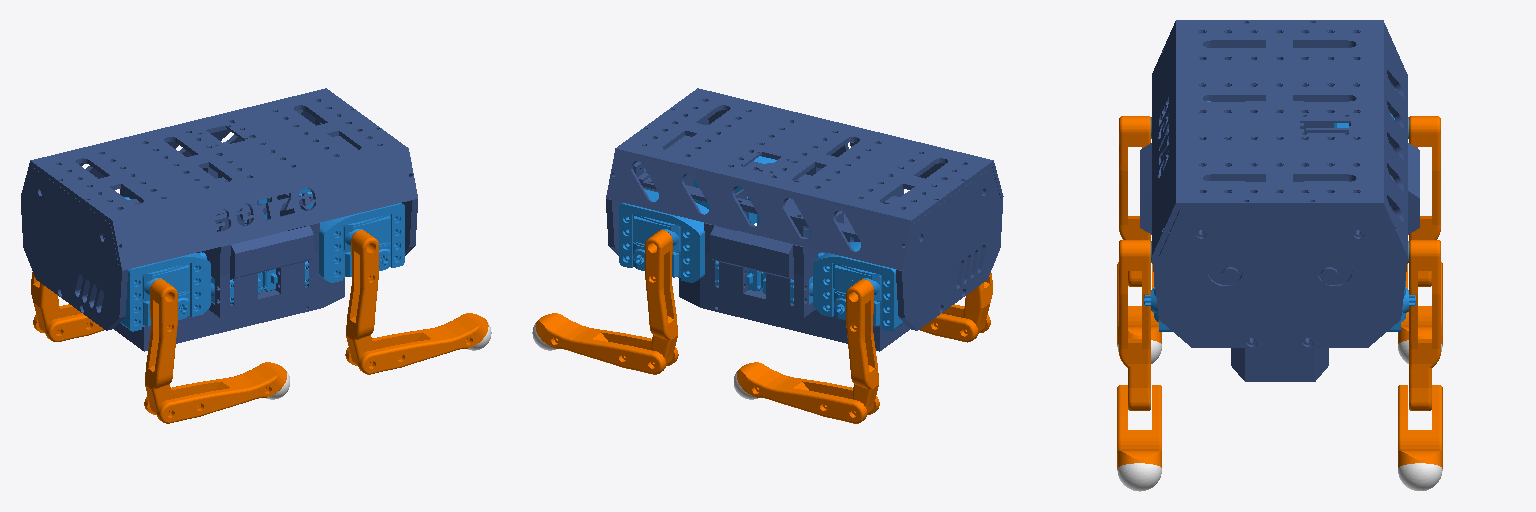
--- What the picture shows (computed from the rendered views, not written in the file) ---
The picture shows the robot from 3 angles, left to right: view 1: azimuth 30°, elevation 25°; view 2: azimuth 150°, elevation 25°; view 3: azimuth 270°, elevation 25°; orthographic projection.
Robot: BOTZO_URDF — 42 links, 41 joints (16 continuous, 25 fixed); root link base; default pose: every joint at zero.
Links seen in each view (by area): view 1: top, rear, RH_SHANK, RF_SHANK, plaque_left, battery_case, RH_THIGH, base, RF_THIGH, FL_hip_holder, BL_hip_holder, LH_SHANK (+6 smaller); view 2: top, rear, plaque_right, LH_SHANK, LF_SHANK, battery_case, base, LF_THIGH, LH_THIGH, FR_hip_holder, BR_hip_holder, internal_infra (+7 smaller); view 3: top, face, LF_THIGH, RF_THIGH, battery_case, LF_SHANK, RF_SHANK, RH_THIGH, LH_THIGH, plaque_right, plaque_left, RF_FOOT (+3 smaller).
Boxes of the visible links, x1,y1,x2,y2 form: top: [21, 88, 417, 270]; rear: [21, 167, 127, 330]; RH_SHANK: [144, 362, 286, 423]; RF_SHANK: [345, 313, 488, 374]; plaque_left: [197, 193, 319, 281]; battery_case: [114, 276, 344, 351]; RH_THIGH: [145, 279, 177, 414]; base: [209, 218, 318, 317]; RF_THIGH: [346, 230, 378, 365]; FL_hip_holder: [319, 203, 404, 282]; BL_hip_holder: [120, 253, 210, 331]; LH_SHANK: [33, 304, 103, 341]; top: [606, 88, 1003, 270]; rear: [896, 167, 1002, 330]; plaque_right: [704, 189, 843, 281]; LH_SHANK: [737, 362, 879, 423]; LF_SHANK: [535, 313, 678, 374]; battery_case: [679, 276, 909, 351]; base: [705, 223, 860, 317]; LF_THIGH: [645, 230, 677, 365]; LH_THIGH: [846, 279, 878, 414]; FR_hip_holder: [619, 189, 708, 282]; BR_hip_holder: [813, 242, 903, 331]; internal_infra: [633, 120, 899, 238]; top: [1152, 20, 1407, 258]; face: [1152, 209, 1407, 347]; LF_THIGH: [1409, 240, 1440, 410]; RF_THIGH: [1119, 240, 1150, 410]; battery_case: [1231, 348, 1328, 381]; LF_SHANK: [1398, 385, 1442, 468]; RF_SHANK: [1117, 385, 1161, 468]; RH_THIGH: [1119, 116, 1150, 286]; LH_THIGH: [1409, 116, 1440, 286]; plaque_right: [1306, 128, 1419, 234]; plaque_left: [1140, 143, 1244, 234]; RF_FOOT: [1117, 463, 1161, 491].
Bounding box of the posed robot: 0.2947 × 0.1816 × 0.1573 m (x, y, z).
42 mesh visuals loaded from 42 distinct referenced files (42 binary STL).

The robot description file, URDF, robot "BOTZO_URDF":
<?xml version="1.0" ?>
<!-- =================================================================================== -->
<!-- |    This document was autogenerated by xacro from BOTZO_URDF.xacro               | -->
<!-- |    EDITING THIS FILE BY HAND IS NOT RECOMMENDED                                 | -->
<!-- =================================================================================== -->
<robot name="BOTZO_URDF">
  <!-- Body Material -->
  <material name="body_material">
    <color rgba="0.3 0.4 0.6 1.0"/>
    <!-- steel blue -->
  </material>
  <!-- Shoulder Material -->
  <material name="shoulder_material">
    <color rgba="0.2 0.6 0.9 1.0"/>
    <!-- light blue -->
  </material>
  <!-- Legs Material -->
  <material name="legs_material">
    <color rgba="1.0 0.5 0.0 1.0"/>
    <!-- orange -->
  </material>
  <!-- Foot Material -->
  <material name="foot_material">
    <color rgba="1.0 1.0 1.0 1.000"/>
    <!-- white -->
  </material>
  <transmission name="LH_HAA_tran">
    <type>transmission_interface/SimpleTransmission</type>
    <joint name="LH_HAA">
      <hardwareInterface>hardware_interface/EffortJointInterface</hardwareInterface>
    </joint>
    <actuator name="LH_HAA_actr">
      <hardwareInterface>hardware_interface/EffortJointInterface</hardwareInterface>
      <mechanicalReduction>1</mechanicalReduction>
    </actuator>
  </transmission>
  <transmission name="RH_HAA_tran">
    <type>transmission_interface/SimpleTransmission</type>
    <joint name="RH_HAA">
      <hardwareInterface>hardware_interface/EffortJointInterface</hardwareInterface>
    </joint>
    <actuator name="RH_HAA_actr">
      <hardwareInterface>hardware_interface/EffortJointInterface</hardwareInterface>
      <mechanicalReduction>1</mechanicalReduction>
    </actuator>
  </transmission>
  <transmission name="RF_HAA_tran">
    <type>transmission_interface/SimpleTransmission</type>
    <joint name="RF_HAA">
      <hardwareInterface>hardware_interface/EffortJointInterface</hardwareInterface>
    </joint>
    <actuator name="RF_HAA_actr">
      <hardwareInterface>hardware_interface/EffortJointInterface</hardwareInterface>
      <mechanicalReduction>1</mechanicalReduction>
    </actuator>
  </transmission>
  <transmission name="LF_HAA_tran">
    <type>transmission_interface/SimpleTransmission</type>
    <joint name="LF_HAA">
      <hardwareInterface>hardware_interface/EffortJointInterface</hardwareInterface>
    </joint>
    <actuator name="LF_HAA_actr">
      <hardwareInterface>hardware_interface/EffortJointInterface</hardwareInterface>
      <mechanicalReduction>1</mechanicalReduction>
    </actuator>
  </transmission>
  <transmission name="LF_HFE_tran">
    <type>transmission_interface/SimpleTransmission</type>
    <joint name="LF_HFE">
      <hardwareInterface>hardware_interface/EffortJointInterface</hardwareInterface>
    </joint>
    <actuator name="LF_HFE_actr">
      <hardwareInterface>hardware_interface/EffortJointInterface</hardwareInterface>
      <mechanicalReduction>1</mechanicalReduction>
    </actuator>
  </transmission>
  <transmission name="RF_HFE_tran">
    <type>transmission_interface/SimpleTransmission</type>
    <joint name="RF_HFE">
      <hardwareInterface>hardware_interface/EffortJointInterface</hardwareInterface>
    </joint>
    <actuator name="RF_HFE_actr">
      <hardwareInterface>hardware_interface/EffortJointInterface</hardwareInterface>
      <mechanicalReduction>1</mechanicalReduction>
    </actuator>
  </transmission>
  <transmission name="RH_HFE_tran">
    <type>transmission_interface/SimpleTransmission</type>
    <joint name="RH_HFE">
      <hardwareInterface>hardware_interface/EffortJointInterface</hardwareInterface>
    </joint>
    <actuator name="RH_HFE_actr">
      <hardwareInterface>hardware_interface/EffortJointInterface</hardwareInterface>
      <mechanicalReduction>1</mechanicalReduction>
    </actuator>
  </transmission>
  <transmission name="LH_HFE_tran">
    <type>transmission_interface/SimpleTransmission</type>
    <joint name="LH_HFE">
      <hardwareInterface>hardware_interface/EffortJointInterface</hardwareInterface>
    </joint>
    <actuator name="LH_HFE_actr">
      <hardwareInterface>hardware_interface/EffortJointInterface</hardwareInterface>
      <mechanicalReduction>1</mechanicalReduction>
    </actuator>
  </transmission>
  <transmission name="LF_KFE_tran">
    <type>transmission_interface/SimpleTransmission</type>
    <joint name="LF_KFE">
      <hardwareInterface>hardware_interface/EffortJointInterface</hardwareInterface>
    </joint>
    <actuator name="LF_KFE_actr">
      <hardwareInterface>hardware_interface/EffortJointInterface</hardwareInterface>
      <mechanicalReduction>1</mechanicalReduction>
    </actuator>
  </transmission>
  <transmission name="RF_KFE_tran">
    <type>transmission_interface/SimpleTransmission</type>
    <joint name="RF_KFE">
      <hardwareInterface>hardware_interface/EffortJointInterface</hardwareInterface>
    </joint>
    <actuator name="RF_KFE_actr">
      <hardwareInterface>hardware_interface/EffortJointInterface</hardwareInterface>
      <mechanicalReduction>1</mechanicalReduction>
    </actuator>
  </transmission>
  <transmission name="LH_KFE_tran">
    <type>transmission_interface/SimpleTransmission</type>
    <joint name="LH_KFE">
      <hardwareInterface>hardware_interface/EffortJointInterface</hardwareInterface>
    </joint>
    <actuator name="LH_KFE_actr">
      <hardwareInterface>hardware_interface/EffortJointInterface</hardwareInterface>
      <mechanicalReduction>1</mechanicalReduction>
    </actuator>
  </transmission>
  <transmission name="RH_KFE_tran">
    <type>transmission_interface/SimpleTransmission</type>
    <joint name="RH_KFE">
      <hardwareInterface>hardware_interface/EffortJointInterface</hardwareInterface>
    </joint>
    <actuator name="RH_KFE_actr">
      <hardwareInterface>hardware_interface/EffortJointInterface</hardwareInterface>
      <mechanicalReduction>1</mechanicalReduction>
    </actuator>
  </transmission>
  <transmission name="RH_shank_fixed_RH_FOOT_tran">
    <type>transmission_interface/SimpleTransmission</type>
    <joint name="RH_shank_fixed_RH_FOOT">
      <hardwareInterface>hardware_interface/EffortJointInterface</hardwareInterface>
    </joint>
    <actuator name="RH_shank_fixed_RH_FOOT_actr">
      <hardwareInterface>hardware_interface/EffortJointInterface</hardwareInterface>
      <mechanicalReduction>1</mechanicalReduction>
    </actuator>
  </transmission>
  <transmission name="LH_shank_fixed_LH_FOOT_tran">
    <type>transmission_interface/SimpleTransmission</type>
    <joint name="LH_shank_fixed_LH_FOOT">
      <hardwareInterface>hardware_interface/EffortJointInterface</hardwareInterface>
    </joint>
    <actuator name="LH_shank_fixed_LH_FOOT_actr">
      <hardwareInterface>hardware_interface/EffortJointInterface</hardwareInterface>
      <mechanicalReduction>1</mechanicalReduction>
    </actuator>
  </transmission>
  <transmission name="LF_shank_fixed_LF_FOOT_tran">
    <type>transmission_interface/SimpleTransmission</type>
    <joint name="LF_shank_fixed_LF_FOOT">
      <hardwareInterface>hardware_interface/EffortJointInterface</hardwareInterface>
    </joint>
    <actuator name="LF_shank_fixed_LF_FOOT_actr">
      <hardwareInterface>hardware_interface/EffortJointInterface</hardwareInterface>
      <mechanicalReduction>1</mechanicalReduction>
    </actuator>
  </transmission>
  <transmission name="RF_shank_fixed_RF_FOOT_tran">
    <type>transmission_interface/SimpleTransmission</type>
    <joint name="RF_shank_fixed_RF_FOOT">
      <hardwareInterface>hardware_interface/EffortJointInterface</hardwareInterface>
    </joint>
    <actuator name="RF_shank_fixed_RF_FOOT_actr">
      <hardwareInterface>hardware_interface/EffortJointInterface</hardwareInterface>
      <mechanicalReduction>1</mechanicalReduction>
    </actuator>
  </transmission>
  <gazebo>
    <plugin filename="libgazebo_ros_control.so" name="control"/>
  </gazebo>
  <gazebo reference="base">
    <material>Gazebo/Silver</material>
    <mu1>0.2</mu1>
    <mu2>0.2</mu2>
    <selfCollide>true</selfCollide>
    <gravity>true</gravity>
  </gazebo>
  <gazebo reference="battery_case_1">
    <material>Gazebo/Silver</material>
    <mu1>0.2</mu1>
    <mu2>0.2</mu2>
    <selfCollide>true</selfCollide>
  </gazebo>
  <gazebo reference="battery_lid_1">
    <material>Gazebo/Silver</material>
    <mu1>0.2</mu1>
    <mu2>0.2</mu2>
    <selfCollide>true</selfCollide>
  </gazebo>
  <gazebo reference="FL_hip_servo_2">
    <material>Gazebo/Silver</material>
    <mu1>0.2</mu1>
    <mu2>0.2</mu2>
    <selfCollide>true</selfCollide>
  </gazebo>
  <gazebo reference="BL_hip_servo_2">
    <material>Gazebo/Silver</material>
    <mu1>0.2</mu1>
    <mu2>0.2</mu2>
    <selfCollide>true</selfCollide>
  </gazebo>
  <gazebo reference="BR_hip_servo_2">
    <material>Gazebo/Silver</material>
    <mu1>0.2</mu1>
    <mu2>0.2</mu2>
    <selfCollide>true</selfCollide>
  </gazebo>
  <gazebo reference="FR_hip_servo_2">
    <material>Gazebo/Silver</material>
    <mu1>0.2</mu1>
    <mu2>0.2</mu2>
    <selfCollide>true</selfCollide>
  </gazebo>
  <gazebo reference="LH_HIP_2">
    <material>Gazebo/Silver</material>
    <mu1>0.2</mu1>
    <mu2>0.2</mu2>
    <selfCollide>true</selfCollide>
  </gazebo>
  <gazebo reference="RH_HIP_2">
    <material>Gazebo/Silver</material>
    <mu1>0.2</mu1>
    <mu2>0.2</mu2>
    <selfCollide>true</selfCollide>
  </gazebo>
  <gazebo reference="RF_HIP_2">
    <material>Gazebo/Silver</material>
    <mu1>0.2</mu1>
    <mu2>0.2</mu2>
    <selfCollide>true</selfCollide>
  </gazebo>
  <gazebo reference="LF_HIP_2">
    <material>Gazebo/Silver</material>
    <mu1>0.2</mu1>
    <mu2>0.2</mu2>
    <selfCollide>true</selfCollide>
  </gazebo>
  <gazebo reference="FR_hip_holder_2">
    <material>Gazebo/Silver</material>
    <mu1>0.2</mu1>
    <mu2>0.2</mu2>
    <selfCollide>true</selfCollide>
  </gazebo>
  <gazebo reference="FL_hip_holder_2">
    <material>Gazebo/Silver</material>
    <mu1>0.2</mu1>
    <mu2>0.2</mu2>
    <selfCollide>true</selfCollide>
  </gazebo>
  <gazebo reference="BR_hip_holder_2">
    <material>Gazebo/Silver</material>
    <mu1>0.2</mu1>
    <mu2>0.2</mu2>
    <selfCollide>true</selfCollide>
  </gazebo>
  <gazebo reference="BL_hip_holder_2">
    <material>Gazebo/Silver</material>
    <mu1>0.2</mu1>
    <mu2>0.2</mu2>
    <selfCollide>true</selfCollide>
  </gazebo>
  <gazebo reference="BL_femur_servo_2">
    <material>Gazebo/Silver</material>
    <mu1>0.2</mu1>
    <mu2>0.2</mu2>
    <selfCollide>true</selfCollide>
  </gazebo>
  <gazebo reference="BL_tibia_servo_2">
    <material>Gazebo/Silver</material>
    <mu1>0.2</mu1>
    <mu2>0.2</mu2>
    <selfCollide>true</selfCollide>
  </gazebo>
  <gazebo reference="BR_femur_servo_2">
    <material>Gazebo/Silver</material>
    <mu1>0.2</mu1>
    <mu2>0.2</mu2>
    <selfCollide>true</selfCollide>
  </gazebo>
  <gazebo reference="BR_tibia_servo_2">
    <material>Gazebo/Silver</material>
    <mu1>0.2</mu1>
    <mu2>0.2</mu2>
    <selfCollide>true</selfCollide>
  </gazebo>
  <gazebo reference="FL_femur_servo_2">
    <material>Gazebo/Silver</material>
    <mu1>0.2</mu1>
    <mu2>0.2</mu2>
    <selfCollide>true</selfCollide>
  </gazebo>
  <gazebo reference="FL_tibia_servo_2">
    <material>Gazebo/Silver</material>
    <mu1>0.2</mu1>
    <mu2>0.2</mu2>
    <selfCollide>true</selfCollide>
  </gazebo>
  <gazebo reference="FR_femur_servo_2">
    <material>Gazebo/Silver</material>
    <mu1>0.2</mu1>
    <mu2>0.2</mu2>
    <selfCollide>true</selfCollide>
  </gazebo>
  <gazebo reference="FR_tibia_servo_2">
    <material>Gazebo/Silver</material>
    <mu1>0.2</mu1>
    <mu2>0.2</mu2>
    <selfCollide>true</selfCollide>
  </gazebo>
  <gazebo reference="imu_link_1">
    <material>Gazebo/Silver</material>
    <mu1>0.2</mu1>
    <mu2>0.2</mu2>
    <selfCollide>true</selfCollide>
  </gazebo>
  <gazebo reference="LF_THIGH_2">
    <material>Gazebo/Silver</material>
    <mu1>0.2</mu1>
    <mu2>0.2</mu2>
    <selfCollide>true</selfCollide>
  </gazebo>
  <gazebo reference="RF_THIGH_2">
    <material>Gazebo/Silver</material>
    <mu1>0.2</mu1>
    <mu2>0.2</mu2>
    <selfCollide>true</selfCollide>
  </gazebo>
  <gazebo reference="RH_THIGH_2">
    <material>Gazebo/Silver</material>
    <mu1>0.2</mu1>
    <mu2>0.2</mu2>
    <selfCollide>true</selfCollide>
  </gazebo>
  <gazebo reference="LH_THIGH_2">
    <material>Gazebo/Silver</material>
    <mu1>0.2</mu1>
    <mu2>0.2</mu2>
    <selfCollide>true</selfCollide>
  </gazebo>
  <gazebo reference="LF_SHANK_2">
    <material>Gazebo/Silver</material>
    <mu1>0.2</mu1>
    <mu2>0.2</mu2>
    <selfCollide>true</selfCollide>
  </gazebo>
  <gazebo reference="RF_SHANK_2">
    <material>Gazebo/Silver</material>
    <mu1>0.2</mu1>
    <mu2>0.2</mu2>
    <selfCollide>true</selfCollide>
  </gazebo>
  <gazebo reference="LH_SHANK_2">
    <material>Gazebo/Silver</material>
    <mu1>0.2</mu1>
    <mu2>0.2</mu2>
    <selfCollide>true</selfCollide>
  </gazebo>
  <gazebo reference="RH_SHANK_2">
    <material>Gazebo/Silver</material>
    <mu1>0.2</mu1>
    <mu2>0.2</mu2>
    <selfCollide>true</selfCollide>
  </gazebo>
  <gazebo reference="RH_FOOT_2">
    <material>Gazebo/Silver</material>
    <mu1>0.2</mu1>
    <mu2>0.2</mu2>
    <selfCollide>true</selfCollide>
  </gazebo>
  <gazebo reference="LH_FOOT_2">
    <material>Gazebo/Silver</material>
    <mu1>0.2</mu1>
    <mu2>0.2</mu2>
    <selfCollide>true</selfCollide>
  </gazebo>
  <gazebo reference="LF_FOOT_2">
    <material>Gazebo/Silver</material>
    <mu1>0.2</mu1>
    <mu2>0.2</mu2>
    <selfCollide>true</selfCollide>
  </gazebo>
  <gazebo reference="RF_FOOT_2">
    <material>Gazebo/Silver</material>
    <mu1>0.2</mu1>
    <mu2>0.2</mu2>
    <selfCollide>true</selfCollide>
  </gazebo>
  <gazebo reference="plaque_left_2">
    <material>Gazebo/Silver</material>
    <mu1>0.2</mu1>
    <mu2>0.2</mu2>
    <selfCollide>true</selfCollide>
  </gazebo>
  <gazebo reference="plaque_right_2">
    <material>Gazebo/Silver</material>
    <mu1>0.2</mu1>
    <mu2>0.2</mu2>
    <selfCollide>true</selfCollide>
  </gazebo>
  <gazebo reference="rear_2">
    <material>Gazebo/Silver</material>
    <mu1>0.2</mu1>
    <mu2>0.2</mu2>
    <selfCollide>true</selfCollide>
  </gazebo>
  <gazebo reference="face_2">
    <material>Gazebo/Silver</material>
    <mu1>0.2</mu1>
    <mu2>0.2</mu2>
    <selfCollide>true</selfCollide>
  </gazebo>
  <gazebo reference="internal_infra_2">
    <material>Gazebo/Silver</material>
    <mu1>0.2</mu1>
    <mu2>0.2</mu2>
    <selfCollide>true</selfCollide>
  </gazebo>
  <gazebo reference="top_2">
    <material>Gazebo/Silver</material>
    <mu1>0.2</mu1>
    <mu2>0.2</mu2>
    <selfCollide>true</selfCollide>
  </gazebo>
  <link name="base">
    <inertial>
      <origin rpy="0 0 0" xyz="0.009375536855168636 2.60962330403209e-06 0.04112976914849421"/>
      <mass value="1.2167441545851616"/>
      <inertia ixx="0.001707" ixy="-0.0" ixz="1e-06" iyy="0.003036" iyz="0.0" izz="0.004645"/>
    </inertial>
    <visual>
      <origin rpy="0 0 0" xyz="0 0 0"/>
      <geometry>
        <mesh filename="../meshes/base.stl" scale="0.001 0.001 0.001"/>
      </geometry>
      <material name="body_material"/>
    </visual>
    <collision>
      <origin rpy="0 0 0" xyz="0 0 0"/>
      <geometry>
        <mesh filename="../meshes/base.stl" scale="0.001 0.001 0.001"/>
      </geometry>
    </collision>
  </link>
  <link name="battery_case">
    <inertial>
      <origin rpy="0 0 0" xyz="-0.04833257320080778 -0.021665747040542763 -0.013785580434187983"/>
      <mass value="0.5279583593554026"/>
      <inertia ixx="0.000303" ixy="-0.0" ixz="6.3e-05" iyy="0.001576" iyz="0.0" izz="0.001729"/>
    </inertial>
    <visual>
      <origin rpy="0 0 0" xyz="-0.060442 -0.021666 -0.035"/>
      <geometry>
        <mesh filename="../meshes/battery_case.stl" scale="0.001 0.001 0.001"/>
      </geometry>
      <material name="body_material"/>
    </visual>
    <collision>
      <origin rpy="0 0 0" xyz="-0.060442 -0.021666 -0.035"/>
      <geometry>
        <mesh filename="../meshes/battery_case.stl" scale="0.001 0.001 0.001"/>
      </geometry>
    </collision>
  </link>
  <link name="battery_lid">
    <inertial>
      <origin rpy="0 0 0" xyz="-0.06437847264634508 0.024434611722595645 -3.256760674206008e-08"/>
      <mass value="0.27701881208594975"/>
      <inertia ixx="6e-05" ixy="-0.0" ixz="0.0" iyy="0.000405" iyz="0.0" izz="0.000464"/>
    </inertial>
    <visual>
      <origin rpy="0 0 0" xyz="-0.063303 0.024621 -0.003002"/>
      <geometry>
        <mesh filename="../meshes/battery_lid.stl" scale="0.001 0.001 0.001"/>
      </geometry>
      <material name="body_material"/>
    </visual>
    <collision>
      <origin rpy="0 0 0" xyz="-0.063303 0.024621 -0.003002"/>
      <geometry>
        <mesh filename="../meshes/battery_lid.stl" scale="0.001 0.001 0.001"/>
      </geometry>
    </collision>
  </link>
  <link name="FL_hip_servo">
    <inertial>
      <origin rpy="0 0 0" xyz="-0.010978826420354432 0.024635560993822213 0.004999993099930565"/>
      <mass value="0.2617"/>
      <inertia ixx="4.6e-05" ixy="0.0" ixz="-0.0" iyy="4.4e-05" iyz="-0.0" izz="7.2e-05"/>
    </inertial>
    <visual>
      <origin rpy="0 0 0" xyz="-0.039798 0.0679 -0.0472"/>
      <geometry>
        <mesh filename="../meshes/FL_hip_servo.stl" scale="0.001 0.001 0.001"/>
      </geometry>
      <material name="shoulder_material"/>
    </visual>
    <collision>
      <origin rpy="0 0 0" xyz="-0.039798 0.0679 -0.0472"/>
      <geometry>
        <mesh filename="../meshes/FL_hip_servo.stl" scale="0.001 0.001 0.001"/>
      </geometry>
    </collision>
  </link>
  <link name="BL_hip_servo">
    <inertial>
      <origin rpy="0 0 0" xyz="0.010978566432420041 0.024635553472565068 0.004999993096986129"/>
      <mass value="0.2617"/>
      <inertia ixx="4.6e-05" ixy="-0.0" ixz="-0.0" iyy="4.4e-05" iyz="-0.0" izz="7.2e-05"/>
    </inertial>
    <visual>
      <origin rpy="0 0 0" xyz="0.024303 0.0679 -0.0472"/>
      <geometry>
        <mesh filename="../meshes/BL_hip_servo.stl" scale="0.001 0.001 0.001"/>
      </geometry>
      <material name="shoulder_material"/>
    </visual>
    <collision>
      <origin rpy="0 0 0" xyz="0.024303 0.0679 -0.0472"/>
      <geometry>
        <mesh filename="../meshes/BL_hip_servo.stl" scale="0.001 0.001 0.001"/>
      </geometry>
    </collision>
  </link>
  <link name="BR_hip_servo">
    <inertial>
      <origin rpy="0 0 0" xyz="0.010978566432483449 -0.02463554393590102 0.005000000088002207"/>
      <mass value="0.2617"/>
      <inertia ixx="4.6e-05" ixy="0.0" ixz="-0.0" iyy="4.4e-05" iyz="0.0" izz="7.2e-05"/>
    </inertial>
    <visual>
      <origin rpy="0 0 0" xyz="0.024303 -0.0679 -0.0472"/>
      <geometry>
        <mesh filename="../meshes/BR_hip_servo.stl" scale="0.001 0.001 0.001"/>
      </geometry>
      <material name="shoulder_material"/>
    </visual>
    <collision>
      <origin rpy="0 0 0" xyz="0.024303 -0.0679 -0.0472"/>
      <geometry>
        <mesh filename="../meshes/BR_hip_servo.stl" scale="0.001 0.001 0.001"/>
      </geometry>
    </collision>
  </link>
  <link name="FR_hip_servo">
    <inertial>
      <origin rpy="0 0 0" xyz="-0.010978819400829183 -0.02463554393111611 0.005000000090946616"/>
      <mass value="0.2617"/>
      <inertia ixx="4.6e-05" ixy="-0.0" ixz="-0.0" iyy="4.4e-05" iyz="0.0" izz="7.2e-05"/>
    </inertial>
    <visual>
      <origin rpy="0 0 0" xyz="-0.039798 -0.0679 -0.0472"/>
      <geometry>
        <mesh filename="../meshes/FR_hip_servo.stl" scale="0.001 0.001 0.001"/>
      </geometry>
      <material name="shoulder_material"/>
    </visual>
    <collision>
      <origin rpy="0 0 0" xyz="-0.039798 -0.0679 -0.0472"/>
      <geometry>
        <mesh filename="../meshes/FR_hip_servo.stl" scale="0.001 0.001 0.001"/>
      </geometry>
    </collision>
  </link>
  <link name="LH_HIP">
    <inertial>
      <origin rpy="0 0 0" xyz="-0.0033823271841275857 1.4796413910361794e-05 0.007872333848179133"/>
      <mass value="0.0095"/>
      <inertia ixx="1e-06" ixy="-0.0" ixz="0.0" iyy="1e-06" iyz="-0.0" izz="0.0"/>
    </inertial>
    <visual>
      <origin rpy="0 0 0" xyz="0.034903 -0.0531 -0.0522"/>
      <geometry>
        <mesh filename="../meshes/LH_HIP.stl" scale="0.001 0.001 0.001"/>
      </geometry>
      <material name="shoulder_material"/>
    </visual>
    <collision>
      <origin rpy="0 0 0" xyz="0.034903 -0.0531 -0.0522"/>
      <geometry>
        <mesh filename="../meshes/LH_HIP.stl" scale="0.001 0.001 0.001"/>
      </geometry>
    </collision>
  </link>
  <link name="RH_HIP">
    <inertial>
      <origin rpy="0 0 0" xyz="-0.0033823296605766523 -1.480449380279747e-05 0.00787237940155594"/>
      <mass value="0.0095"/>
      <inertia ixx="1e-06" ixy="0.0" ixz="0.0" iyy="1e-06" iyz="0.0" izz="0.0"/>
    </inertial>
    <visual>
      <origin rpy="0 0 0" xyz="0.034903 0.0531 -0.0522"/>
      <geometry>
        <mesh filename="../meshes/RH_HIP.stl" scale="0.001 0.001 0.001"/>
      </geometry>
      <material name="shoulder_material"/>
    </visual>
    <collision>
      <origin rpy="0 0 0" xyz="0.034903 0.0531 -0.0522"/>
      <geometry>
        <mesh filename="../meshes/RH_HIP.stl" scale="0.001 0.001 0.001"/>
      </geometry>
    </collision>
  </link>
  <link name="RF_HIP">
    <inertial>
      <origin rpy="0 0 0" xyz="0.003382077615074093 1.4787446472486199e-05 0.007872350264379872"/>
      <mass value="0.0095"/>
      <inertia ixx="1e-06" ixy="0.0" ixz="-0.0" iyy="1e-06" iyz="-0.0" izz="0.0"/>
    </inertial>
    <visual>
      <origin rpy="0 0 0" xyz="-0.050398 0.0531 -0.0522"/>
      <geometry>
        <mesh filename="../meshes/RF_HIP.stl" scale="0.001 0.001 0.001"/>
      </geometry>
      <material name="shoulder_material"/>
    </visual>
    <collision>
      <origin rpy="0 0 0" xyz="-0.050398 0.0531 -0.0522"/>
      <geometry>
        <mesh filename="../meshes/RF_HIP.stl" scale="0.001 0.001 0.001"/>
      </geometry>
    </collision>
  </link>
  <link name="LF_HIP">
    <inertial>
      <origin rpy="0 0 0" xyz="0.0033820809457219755 -1.45680062756115e-05 0.007871874279300785"/>
      <mass value="0.0095"/>
      <inertia ixx="1e-06" ixy="-0.0" ixz="-0.0" iyy="1e-06" iyz="0.0" izz="0.0"/>
    </inertial>
    <visual>
      <origin rpy="0 0 0" xyz="-0.050398 -0.0531 -0.0522"/>
      <geometry>
        <mesh filename="../meshes/LF_HIP.stl" scale="0.001 0.001 0.001"/>
      </geometry>
      <material name="shoulder_material"/>
    </visual>
    <collision>
      <origin rpy="0 0 0" xyz="-0.050398 -0.0531 -0.0522"/>
      <geometry>
        <mesh filename="../meshes/LF_HIP.stl" scale="0.001 0.001 0.001"/>
      </geometry>
    </collision>
  </link>
  <link name="FR_hip_holder">
    <inertial>
      <origin rpy="0 0 0" xyz="0.029560698455582325 -0.0006139250348962816 -0.005293910274418584"/>
      <mass value="0.2738"/>
      <inertia ixx="8.1e-05" ixy="1e-06" ixz="-1.2e-05" iyy="0.000224" iyz="-1e-06" izz="0.000184"/>
    </inertial>
    <visual>
      <origin rpy="0 0 0" xyz="-0.056398 -0.0531 -0.0722"/>
      <geometry>
        <mesh filename="../meshes/FR_hip_holder.stl" scale="0.001 0.001 0.001"/>
      </geometry>
      <material name="shoulder_material"/>
    </visual>
    <collision>
      <origin rpy="0 0 0" xyz="-0.056398 -0.0531 -0.0722"/>
      <geometry>
        <mesh filename="../meshes/FR_hip_holder.stl" scale="0.001 0.001 0.001"/>
      </geometry>
    </collision>
  </link>
  <link name="FL_hip_holder">
    <inertial>
      <origin rpy="0 0 0" xyz="0.029560702894754244 0.0006139344660216831 -0.005293914635593616"/>
      <mass value="0.2738"/>
      <inertia ixx="8.1e-05" ixy="-1e-06" ixz="-1.2e-05" iyy="0.000224" iyz="1e-06" izz="0.000184"/>
    </inertial>
    <visual>
      <origin rpy="0 0 0" xyz="-0.056398 0.0531 -0.0722"/>
      <geometry>
        <mesh filename="../meshes/FL_hip_holder.stl" scale="0.001 0.001 0.001"/>
      </geometry>
      <material name="shoulder_material"/>
    </visual>
    <collision>
      <origin rpy="0 0 0" xyz="-0.056398 0.0531 -0.0722"/>
      <geometry>
        <mesh filename="../meshes/FL_hip_holder.stl" scale="0.001 0.001 0.001"/>
      </geometry>
    </collision>
  </link>
  <link name="BR_hip_holder">
    <inertial>
      <origin rpy="0 0 0" xyz="-0.029567418713488176 -0.0006140698430923894 -0.005290300978496018"/>
      <mass value="0.2738"/>
      <inertia ixx="8.1e-05" ixy="-1e-06" ixz="1.2e-05" iyy="0.000224" iyz="-1e-06" izz="0.000184"/>
    </inertial>
    <visual>
      <origin rpy="0 0 0" xyz="0.040903 -0.0531 -0.0722"/>
      <geometry>
        <mesh filename="../meshes/BR_hip_holder.stl" scale="0.001 0.001 0.001"/>
      </geometry>
      <material name="shoulder_material"/>
    </visual>
    <collision>
      <origin rpy="0 0 0" xyz="0.040903 -0.0531 -0.0722"/>
      <geometry>
        <mesh filename="../meshes/BR_hip_holder.stl" scale="0.001 0.001 0.001"/>
      </geometry>
    </collision>
  </link>
  <link name="BL_hip_holder">
    <inertial>
      <origin rpy="0 0 0" xyz="-0.02956749620152093 0.0006140814047106841 -0.005290344095366009"/>
      <mass value="0.2738"/>
      <inertia ixx="8.1e-05" ixy="1e-06" ixz="1.2e-05" iyy="0.000224" iyz="1e-06" izz="0.000184"/>
    </inertial>
    <visual>
      <origin rpy="0 0 0" xyz="0.040903 0.0531 -0.0722"/>
      <geometry>
        <mesh filename="../meshes/BL_hip_holder.stl" scale="0.001 0.001 0.001"/>
      </geometry>
      <material name="shoulder_material"/>
    </visual>
    <collision>
      <origin rpy="0 0 0" xyz="0.040903 0.0531 -0.0722"/>
      <geometry>
        <mesh filename="../meshes/BL_hip_holder.stl" scale="0.001 0.001 0.001"/>
      </geometry>
    </collision>
  </link>
  <link name="BL_femur_servo">
    <inertial>
      <origin rpy="0 0 0" xyz="-0.024964370616050904 0.010978365390125422 0.004999649993067221"/>
      <mass value="0.2617"/>
      <inertia ixx="4.4e-05" ixy="-0.0" ixz="-0.0" iyy="4.6e-05" iyz="0.0" izz="7.2e-05"/>
    </inertial>
    <visual>
      <origin rpy="0 0 0" xyz="0.049276 0.0613 -0.066121"/>
      <geometry>
        <mesh filename="../meshes/BL_femur_servo.stl" scale="0.001 0.001 0.001"/>
      </geometry>
      <material name="shoulder_material"/>
    </visual>
    <collision>
      <origin rpy="0 0 0" xyz="0.049276 0.0613 -0.066121"/>
      <geometry>
        <mesh filename="../meshes/BL_femur_servo.stl" scale="0.001 0.001 0.001"/>
      </geometry>
    </collision>
  </link>
  <link name="BL_tibia_servo">
    <inertial>
      <origin rpy="0 0 0" xyz="-0.02463534146393219 0.010978408940392835 0.0049996411984006145"/>
      <mass value="0.2617"/>
      <inertia ixx="4.4e-05" ixy="0.0" ixz="-0.0" iyy="4.6e-05" iyz="-0.0" izz="7.2e-05"/>
    </inertial>
    <visual>
      <origin rpy="0 0 0" xyz="0.049276 0.0613 -0.045621"/>
      <geometry>
        <mesh filename="../meshes/BL_tibia_servo.stl" scale="0.001 0.001 0.001"/>
      </geometry>
      <material name="shoulder_material"/>
    </visual>
    <collision>
      <origin rpy="0 0 0" xyz="0.049276 0.0613 -0.045621"/>
      <geometry>
        <mesh filename="../meshes/BL_tibia_servo.stl" scale="0.001 0.001 0.001"/>
      </geometry>
    </collision>
  </link>
  <link name="BR_femur_servo">
    <inertial>
      <origin rpy="0 0 0" xyz="-0.024964370616009382 -0.010978355853619524 0.004999656984075548"/>
      <mass value="0.2617"/>
      <inertia ixx="4.4e-05" ixy="0.0" ixz="-0.0" iyy="4.6e-05" iyz="-0.0" izz="7.2e-05"/>
    </inertial>
    <visual>
      <origin rpy="0 0 0" xyz="0.049276 -0.0613 -0.066121"/>
      <geometry>
        <mesh filename="../meshes/BR_femur_servo.stl" scale="0.001 0.001 0.001"/>
      </geometry>
      <material name="shoulder_material"/>
    </visual>
    <collision>
      <origin rpy="0 0 0" xyz="0.049276 -0.0613 -0.066121"/>
      <geometry>
        <mesh filename="../meshes/BR_femur_servo.stl" scale="0.001 0.001 0.001"/>
      </geometry>
    </collision>
  </link>
  <link name="BR_tibia_servo">
    <inertial>
      <origin rpy="0 0 0" xyz="-0.0246353414638866 -0.010978399403886119 0.004999648189409005"/>
      <mass value="0.2617"/>
      <inertia ixx="4.4e-05" ixy="-0.0" ixz="-0.0" iyy="4.6e-05" iyz="0.0" izz="7.2e-05"/>
    </inertial>
    <visual>
      <origin rpy="0 0 0" xyz="0.049276 -0.0613 -0.045621"/>
      <geometry>
        <mesh filename="../meshes/BR_tibia_servo.stl" scale="0.001 0.001 0.001"/>
      </geometry>
      <material name="shoulder_material"/>
    </visual>
    <collision>
      <origin rpy="0 0 0" xyz="0.049276 -0.0613 -0.045621"/>
      <geometry>
        <mesh filename="../meshes/BR_tibia_servo.stl" scale="0.001 0.001 0.001"/>
      </geometry>
    </collision>
  </link>
  <link name="FL_femur_servo">
    <inertial>
      <origin rpy="0 0 0" xyz="0.024635236782420036 0.010978365390344982 0.004999645985760567"/>
      <mass value="0.2617"/>
      <inertia ixx="4.4e-05" ixy="-0.0" ixz="-0.0" iyy="4.6e-05" iyz="0.0" izz="7.2e-05"/>
    </inertial>
    <visual>
      <origin rpy="0 0 0" xyz="-0.064771 0.0613 -0.066121"/>
      <geometry>
        <mesh filename="../meshes/FL_femur_servo.stl" scale="0.001 0.001 0.001"/>
      </geometry>
      <material name="shoulder_material"/>
    </visual>
    <collision>
      <origin rpy="0 0 0" xyz="-0.064771 0.0613 -0.066121"/>
      <geometry>
        <mesh filename="../meshes/FL_femur_servo.stl" scale="0.001 0.001 0.001"/>
      </geometry>
    </collision>
  </link>
  <link name="FL_tibia_servo">
    <inertial>
      <origin rpy="0 0 0" xyz="0.024964033753852463 0.010978390052187453 0.004999641006598471"/>
      <mass value="0.2617"/>
      <inertia ixx="4.4e-05" ixy="0.0" ixz="0.0" iyy="4.6e-05" iyz="-0.0" izz="7.2e-05"/>
    </inertial>
    <visual>
      <origin rpy="0 0 0" xyz="-0.064771 0.0613 -0.045621"/>
      <geometry>
        <mesh filename="../meshes/FL_tibia_servo.stl" scale="0.001 0.001 0.001"/>
      </geometry>
      <material name="shoulder_material"/>
    </visual>
    <collision>
      <origin rpy="0 0 0" xyz="-0.064771 0.0613 -0.045621"/>
      <geometry>
        <mesh filename="../meshes/FL_tibia_servo.stl" scale="0.001 0.001 0.001"/>
      </geometry>
    </collision>
  </link>
  <link name="FR_femur_servo">
    <inertial>
      <origin rpy="0 0 0" xyz="0.02463523678246525 -0.010978355853581062 0.004999652976776514"/>
      <mass value="0.2617"/>
      <inertia ixx="4.4e-05" ixy="0.0" ixz="-0.0" iyy="4.6e-05" iyz="-0.0" izz="7.2e-05"/>
    </inertial>
    <visual>
      <origin rpy="0 0 0" xyz="-0.064771 -0.0613 -0.066121"/>
      <geometry>
        <mesh filename="../meshes/FR_femur_servo.stl" scale="0.001 0.001 0.001"/>
      </geometry>
      <material name="shoulder_material"/>
    </visual>
    <collision>
      <origin rpy="0 0 0" xyz="-0.064771 -0.0613 -0.066121"/>
      <geometry>
        <mesh filename="../meshes/FR_femur_servo.stl" scale="0.001 0.001 0.001"/>
      </geometry>
    </collision>
  </link>
  <link name="FR_tibia_servo">
    <inertial>
      <origin rpy="0 0 0" xyz="0.024964033753897955 -0.010978380515422506 0.004999647997614584"/>
      <mass value="0.2617"/>
      <inertia ixx="4.4e-05" ixy="-0.0" ixz="0.0" iyy="4.6e-05" iyz="0.0" izz="7.2e-05"/>
    </inertial>
    <visual>
      <origin rpy="0 0 0" xyz="-0.064771 -0.0613 -0.045621"/>
      <geometry>
        <mesh filename="../meshes/FR_tibia_servo.stl" scale="0.001 0.001 0.001"/>
      </geometry>
      <material name="shoulder_material"/>
    </visual>
    <collision>
      <origin rpy="0 0 0" xyz="-0.064771 -0.0613 -0.045621"/>
      <geometry>
        <mesh filename="../meshes/FR_tibia_servo.stl" scale="0.001 0.001 0.001"/>
      </geometry>
    </collision>
  </link>
  <link name="imu_link">
    <inertial>
      <origin rpy="0 0 0" xyz="3.683803719701888e-07 7.62933245468389e-09 0.00049999999999846"/>
      <mass value="0.0026375999999999986"/>
      <inertia ixx="0.0" ixy="-0.0" ixz="0.0" iyy="0.0" iyz="0.0" izz="0.0"/>
    </inertial>
    <visual>
      <origin rpy="0 0 0" xyz="-0.003497 -0.0 -0.0395"/>
      <geometry>
        <mesh filename="../meshes/imu_link.stl" scale="0.001 0.001 0.001"/>
      </geometry>
      <material name="body_material"/>
    </visual>
    <collision>
      <origin rpy="0 0 0" xyz="-0.003497 -0.0 -0.0395"/>
      <geometry>
        <mesh filename="../meshes/imu_link.stl" scale="0.001 0.001 0.001"/>
      </geometry>
    </collision>
  </link>
  <link name="LF_THIGH">
    <inertial>
      <origin rpy="0 0 0" xyz="-0.0015487128805810324 0.00818635524879402 -0.046699032368199875"/>
      <mass value="0.1232"/>
      <inertia ixx="0.000112" ixy="-0.0" ixz="-4e-06" iyy="0.000111" iyz="-2e-06" izz="6e-06"/>
    </inertial>
    <visual>
      <origin rpy="0 0 0" xyz="-0.079571 -0.0719 -0.071121"/>
      <geometry>
        <mesh filename="../meshes/LF_THIGH.stl" scale="0.001 0.001 0.001"/>
      </geometry>
      <material name="legs_material"/>
    </visual>
    <collision>
      <origin rpy="0 0 0" xyz="-0.079571 -0.0719 -0.071121"/>
      <geometry>
        <mesh filename="../meshes/LF_THIGH.stl" scale="0.001 0.001 0.001"/>
      </geometry>
    </collision>
  </link>
  <link name="RF_THIGH">
    <inertial>
      <origin rpy="0 0 0" xyz="-0.001548689561858288 -0.00818632723111587 -0.04669919641913074"/>
      <mass value="0.1232"/>
      <inertia ixx="0.000112" ixy="0.0" ixz="-4e-06" iyy="0.000111" iyz="2e-06" izz="6e-06"/>
    </inertial>
    <visual>
      <origin rpy="0 0 0" xyz="-0.079571 0.0719 -0.071121"/>
      <geometry>
        <mesh filename="../meshes/RF_THIGH.stl" scale="0.001 0.001 0.001"/>
      </geometry>
      <material name="legs_material"/>
    </visual>
    <collision>
      <origin rpy="0 0 0" xyz="-0.079571 0.0719 -0.071121"/>
      <geometry>
        <mesh filename="../meshes/RF_THIGH.stl" scale="0.001 0.001 0.001"/>
      </geometry>
    </collision>
  </link>
  <link name="RH_THIGH">
    <inertial>
      <origin rpy="0 0 0" xyz="-0.0015481950136371492 -0.008186327231335055 -0.046697922551068013"/>
      <mass value="0.1232"/>
      <inertia ixx="0.000112" ixy="0.0" ixz="-4e-06" iyy="0.000111" iyz="2e-06" izz="6e-06"/>
    </inertial>
    <visual>
      <origin rpy="0 0 0" xyz="0.084076 0.0719 -0.071121"/>
      <geometry>
        <mesh filename="../meshes/RH_THIGH.stl" scale="0.001 0.001 0.001"/>
      </geometry>
      <material name="legs_material"/>
    </visual>
    <collision>
      <origin rpy="0 0 0" xyz="0.084076 0.0719 -0.071121"/>
      <geometry>
        <mesh filename="../meshes/RH_THIGH.stl" scale="0.001 0.001 0.001"/>
      </geometry>
    </collision>
  </link>
  <link name="LH_THIGH">
    <inertial>
      <origin rpy="0 0 0" xyz="-0.0015481437644143808 0.008186355248752455 -0.0466975963630347"/>
      <mass value="0.1232"/>
      <inertia ixx="0.000113" ixy="-0.0" ixz="-4e-06" iyy="0.000111" iyz="-2e-06" izz="6e-06"/>
    </inertial>
    <visual>
      <origin rpy="0 0 0" xyz="0.084076 -0.0719 -0.071121"/>
      <geometry>
        <mesh filename="../meshes/LH_THIGH.stl" scale="0.001 0.001 0.001"/>
      </geometry>
      <material name="legs_material"/>
    </visual>
    <collision>
      <origin rpy="0 0 0" xyz="0.084076 -0.0719 -0.071121"/>
      <geometry>
        <mesh filename="../meshes/LH_THIGH.stl" scale="0.001 0.001 0.001"/>
      </geometry>
    </collision>
  </link>
  <link name="LF_SHANK">
    <inertial>
      <origin rpy="0 0 0" xyz="0.04761573643303946 -0.006599694761353192 -1.2592420719485797e-05"/>
      <mass value="0.164"/>
      <inertia ixx="1.5e-05" ixy="-0.0" ixz="-3e-06" iyy="0.000134" iyz="0.0" izz="0.000143"/>
    </inertial>
    <visual>
      <origin rpy="0 0 0" xyz="-0.079571 -0.0849 0.019458"/>
      <geometry>
        <mesh filename="../meshes/LF_SHANK.stl" scale="0.001 0.001 0.001"/>
      </geometry>
      <material name="legs_material"/>
    </visual>
    <collision>
      <origin rpy="0 0 0" xyz="-0.079571 -0.0849 0.019458"/>
      <geometry>
        <mesh filename="../meshes/LF_SHANK.stl" scale="0.001 0.001 0.001"/>
      </geometry>
    </collision>
  </link>
  <link name="RF_SHANK">
    <inertial>
      <origin rpy="0 0 0" xyz="0.04761036870481894 0.006598316213817332 -1.353852544248857e-05"/>
      <mass value="0.164"/>
      <inertia ixx="1.5e-05" ixy="-0.0" ixz="-3e-06" iyy="0.000134" iyz="-0.0" izz="0.000143"/>
    </inertial>
    <visual>
      <origin rpy="0 0 0" xyz="-0.079571 0.0849 0.019458"/>
      <geometry>
        <mesh filename="../meshes/RF_SHANK.stl" scale="0.001 0.001 0.001"/>
      </geometry>
      <material name="legs_material"/>
    </visual>
    <collision>
      <origin rpy="0 0 0" xyz="-0.079571 0.0849 0.019458"/>
      <geometry>
        <mesh filename="../meshes/RF_SHANK.stl" scale="0.001 0.001 0.001"/>
      </geometry>
    </collision>
  </link>
  <link name="LH_SHANK">
    <inertial>
      <origin rpy="0 0 0" xyz="0.04761612952198336 -0.006599694550297436 -1.2588381189494041e-05"/>
      <mass value="0.164"/>
      <inertia ixx="1.5e-05" ixy="-0.0" ixz="-3e-06" iyy="0.000134" iyz="0.0" izz="0.000143"/>
    </inertial>
    <visual>
      <origin rpy="0 0 0" xyz="0.084076 -0.0849 0.019458"/>
      <geometry>
        <mesh filename="../meshes/LH_SHANK.stl" scale="0.001 0.001 0.001"/>
      </geometry>
      <material name="legs_material"/>
    </visual>
    <collision>
      <origin rpy="0 0 0" xyz="0.084076 -0.0849 0.019458"/>
      <geometry>
        <mesh filename="../meshes/LH_SHANK.stl" scale="0.001 0.001 0.001"/>
      </geometry>
    </collision>
  </link>
  <link name="RH_SHANK">
    <inertial>
      <origin rpy="0 0 0" xyz="0.04761076180760174 0.006598316002501006 -1.3534182405641748e-05"/>
      <mass value="0.164"/>
      <inertia ixx="1.5e-05" ixy="-0.0" ixz="-3e-06" iyy="0.000134" iyz="-0.0" izz="0.000143"/>
    </inertial>
    <visual>
      <origin rpy="0 0 0" xyz="0.084076 0.0849 0.019458"/>
      <geometry>
        <mesh filename="../meshes/RH_SHANK.stl" scale="0.001 0.001 0.001"/>
      </geometry>
      <material name="legs_material"/>
    </visual>
    <collision>
      <origin rpy="0 0 0" xyz="0.084076 0.0849 0.019458"/>
      <geometry>
        <mesh filename="../meshes/RH_SHANK.stl" scale="0.001 0.001 0.001"/>
      </geometry>
    </collision>
  </link>
  <link name="RH_FOOT">
    <inertial>
      <origin rpy="0 0 0" xyz="-0.0003376526347223371 -1.6063295735224692e-07 -0.0014047848508303117"/>
      <mass value="0.0343"/>
      <inertia ixx="2e-06" ixy="0.0" ixz="-0.0" iyy="2e-06" iyz="-0.0" izz="3e-06"/>
    </inertial>
    <visual>
      <origin rpy="0 0 0" xyz="-0.005871 0.0783 0.020649"/>
      <geometry>
        <mesh filename="../meshes/RH_FOOT.stl" scale="0.001 0.001 0.001"/>
      </geometry>
      <material name="foot_material"/>
    </visual>
    <collision>
      <origin rpy="0 0 0" xyz="-0.005871 0.0783 0.020649"/>
      <geometry>
        <mesh filename="../meshes/RH_FOOT.stl" scale="0.001 0.001 0.001"/>
      </geometry>
    </collision>
  </link>
  <link name="LH_FOOT">
    <inertial>
      <origin rpy="0 0 0" xyz="-0.0003375510651749958 1.0722434976018214e-07 -0.001404786210773161"/>
      <mass value="0.0343"/>
      <inertia ixx="2e-06" ixy="-0.0" ixz="-0.0" iyy="2e-06" iyz="0.0" izz="3e-06"/>
    </inertial>
    <visual>
      <origin rpy="0 0 0" xyz="-0.005871 -0.0783 0.020649"/>
      <geometry>
        <mesh filename="../meshes/LH_FOOT.stl" scale="0.001 0.001 0.001"/>
      </geometry>
      <material name="foot_material"/>
    </visual>
    <collision>
      <origin rpy="0 0 0" xyz="-0.005871 -0.0783 0.020649"/>
      <geometry>
        <mesh filename="../meshes/LH_FOOT.stl" scale="0.001 0.001 0.001"/>
      </geometry>
    </collision>
  </link>
  <link name="LF_FOOT">
    <inertial>
      <origin rpy="0 0 0" xyz="-0.00033694366669970166 1.0722443821720162e-07 -0.0014047902180800848"/>
      <mass value="0.0343"/>
      <inertia ixx="2e-06" ixy="-0.0" ixz="-0.0" iyy="2e-06" iyz="0.0" izz="3e-06"/>
    </inertial>
    <visual>
      <origin rpy="0 0 0" xyz="-0.169517 -0.0783 0.020649"/>
      <geometry>
        <mesh filename="../meshes/LF_FOOT.stl" scale="0.001 0.001 0.001"/>
      </geometry>
      <material name="foot_material"/>
    </visual>
    <collision>
      <origin rpy="0 0 0" xyz="-0.169517 -0.0783 0.020649"/>
      <geometry>
        <mesh filename="../meshes/LF_FOOT.stl" scale="0.001 0.001 0.001"/>
      </geometry>
    </collision>
  </link>
  <link name="RF_FOOT">
    <inertial>
      <origin rpy="0 0 0" xyz="-0.0003376358493341891 6.995907952944691e-08 -0.0014051574298237467"/>
      <mass value="0.0343"/>
      <inertia ixx="2e-06" ixy="0.0" ixz="-0.0" iyy="2e-06" iyz="-0.0" izz="3e-06"/>
    </inertial>
    <visual>
      <origin rpy="0 0 0" xyz="-0.169477 0.078314 0.020683"/>
      <geometry>
        <mesh filename="../meshes/RF_FOOT.stl" scale="0.001 0.001 0.001"/>
      </geometry>
      <material name="foot_material"/>
    </visual>
    <collision>
      <origin rpy="0 0 0" xyz="-0.169477 0.078314 0.020683"/>
      <geometry>
        <mesh filename="../meshes/RF_FOOT.stl" scale="0.001 0.001 0.001"/>
      </geometry>
    </collision>
  </link>
  <link name="plaque_left">
    <inertial>
      <origin rpy="0 0 0" xyz="0.014393569624221867 -0.02888533887184032 0.007166851005990391"/>
      <mass value="0.265"/>
      <inertia ixx="0.000113" ixy="0.0" ixz="0.0" iyy="0.000207" iyz="8e-06" izz="0.000285"/>
    </inertial>
    <visual>
      <origin rpy="0 0 0" xyz="0.00664 0.018475 -0.0624"/>
      <geometry>
        <mesh filename="../meshes/plaque_left.stl" scale="0.001 0.001 0.001"/>
      </geometry>
      <material name="body_material"/>
    </visual>
    <collision>
      <origin rpy="0 0 0" xyz="0.00664 0.018475 -0.0624"/>
      <geometry>
        <mesh filename="../meshes/plaque_left.stl" scale="0.001 0.001 0.001"/>
      </geometry>
    </collision>
  </link>
  <link name="plaque_right">
    <inertial>
      <origin rpy="0 0 0" xyz="0.01437999212800966 0.028910459753787983 0.007144962390201057"/>
      <mass value="0.265"/>
      <inertia ixx="0.000113" ixy="-0.0" ixz="-0.0" iyy="0.000208" iyz="-8e-06" izz="0.000286"/>
    </inertial>
    <visual>
      <origin rpy="0 0 0" xyz="0.00664 -0.018475 -0.0624"/>
      <geometry>
        <mesh filename="../meshes/plaque_right.stl" scale="0.001 0.001 0.001"/>
      </geometry>
      <material name="body_material"/>
    </visual>
    <collision>
      <origin rpy="0 0 0" xyz="0.00664 -0.018475 -0.0624"/>
      <geometry>
        <mesh filename="../meshes/plaque_right.stl" scale="0.001 0.001 0.001"/>
      </geometry>
    </collision>
  </link>
  <link name="rear">
    <inertial>
      <origin rpy="0 0 0" xyz="-0.002467088490467728 0.01679061879749418 0.03991220570023193"/>
      <mass value="0.42"/>
      <inertia ixx="0.000826" ixy="0.0" ixz="0.0" iyy="0.000229" iyz="1.1e-05" izz="0.000599"/>
    </inertial>
    <visual>
      <origin rpy="0 0 0" xyz="0.107742 0.015621 -0.0385"/>
      <geometry>
        <mesh filename="../meshes/rear.stl" scale="0.001 0.001 0.001"/>
      </geometry>
      <material name="body_material"/>
    </visual>
    <collision>
      <origin rpy="0 0 0" xyz="0.107742 0.015621 -0.0385"/>
      <geometry>
        <mesh filename="../meshes/rear.stl" scale="0.001 0.001 0.001"/>
      </geometry>
    </collision>
  </link>
  <link name="face">
    <inertial>
      <origin rpy="0 0 0" xyz="0.0024414347125266272 0.015621074926330704 0.03876987732727693"/>
      <mass value="0.42"/>
      <inertia ixx="0.000844" ixy="0.0" ixz="-0.0" iyy="0.000239" iyz="-0.0" izz="0.000607"/>
    </inertial>
    <visual>
      <origin rpy="0 0 0" xyz="-0.123238 0.015621 -0.0385"/>
      <geometry>
        <mesh filename="../meshes/face.stl" scale="0.001 0.001 0.001"/>
      </geometry>
      <material name="body_material"/>
    </visual>
    <collision>
      <origin rpy="0 0 0" xyz="-0.123238 0.015621 -0.0385"/>
      <geometry>
        <mesh filename="../meshes/face.stl" scale="0.001 0.001 0.001"/>
      </geometry>
    </collision>
  </link>
  <link name="internal_infra">
    <inertial>
      <origin rpy="0 0 0" xyz="0.11530993699758461 0.044680485707850826 -0.007028415436090132"/>
      <mass value="0.296"/>
      <inertia ixx="0.000331" ixy="0.0" ixz="0.0" iyy="0.001813" iyz="1e-06" izz="0.002141"/>
    </inertial>
    <visual>
      <origin rpy="0 0 0" xyz="0.107742 0.043961 -0.105071"/>
      <geometry>
        <mesh filename="../meshes/internal_infra.stl" scale="0.001 0.001 0.001"/>
      </geometry>
      <material name="body_material"/>
    </visual>
    <collision>
      <origin rpy="0 0 0" xyz="0.107742 0.043961 -0.105071"/>
      <geometry>
        <mesh filename="../meshes/internal_infra.stl" scale="0.001 0.001 0.001"/>
      </geometry>
    </collision>
  </link>
  <link name="top">
    <inertial>
      <origin rpy="0 0 0" xyz="0.11761953860342345 -0.06398448625003379 0.011181156410446563"/>
      <mass value="1.115"/>
      <inertia ixx="0.002509" ixy="3.8e-05" ixz="-3e-06" iyy="0.005671" iyz="-2.2e-05" izz="0.007973"/>
    </inertial>
    <visual>
      <origin rpy="0 0 0" xyz="0.110242 -0.0616 -0.105415"/>
      <geometry>
        <mesh filename="../meshes/top.stl" scale="0.001 0.001 0.001"/>
      </geometry>
      <material name="body_material"/>
    </visual>
    <collision>
      <origin rpy="0 0 0" xyz="0.110242 -0.0616 -0.105415"/>
      <geometry>
        <mesh filename="../meshes/top.stl" scale="0.001 0.001 0.001"/>
      </geometry>
    </collision>
  </link>
  <joint name="Rigid 1" type="fixed">
    <origin rpy="0 0 0" xyz="0.060442 0.021666 0.035"/>
    <parent link="base"/>
    <child link="battery_case"/>
  </joint>
  <joint name="Rigid 2" type="fixed">
    <origin rpy="0 0 0" xyz="0.002861 -0.046287 -0.031998"/>
    <parent link="battery_case"/>
    <child link="battery_lid"/>
  </joint>
  <joint name="Rigid 3" type="fixed">
    <origin rpy="0 0 0" xyz="0.039798 -0.0679 0.0472"/>
    <parent link="base"/>
    <child link="FL_hip_servo"/>
  </joint>
  <joint name="Rigid 4" type="fixed">
    <origin rpy="0 0 0" xyz="-0.024303 -0.0679 0.0472"/>
    <parent link="base"/>
    <child link="BL_hip_servo"/>
  </joint>
  <joint name="Rigid 5" type="fixed">
    <origin rpy="0 0 0" xyz="-0.024303 0.0679 0.0472"/>
    <parent link="base"/>
    <child link="BR_hip_servo"/>
  </joint>
  <joint name="Rigid 6" type="fixed">
    <origin rpy="0 0 0" xyz="0.039798 0.0679 0.0472"/>
    <parent link="base"/>
    <child link="FR_hip_servo"/>
  </joint>
  <joint name="LH_HAA" type="continuous">
    <origin rpy="0 0 0" xyz="-0.0106 -0.0148 0.005"/>
    <parent link="BR_hip_servo"/>
    <child link="LH_HIP"/>
    <axis xyz="1.0 0.0 0.0"/>
  </joint>
  <joint name="RH_HAA" type="continuous">
    <origin rpy="0 0 0" xyz="-0.0106 0.0148 0.005"/>
    <parent link="BL_hip_servo"/>
    <child link="RH_HIP"/>
    <axis xyz="-1.0 -0.0 -0.0"/>
  </joint>
  <joint name="RF_HAA" type="continuous">
    <origin rpy="0 0 0" xyz="0.0106 0.0148 0.005"/>
    <parent link="FL_hip_servo"/>
    <child link="RF_HIP"/>
    <axis xyz="-1.0 -0.0 -0.0"/>
  </joint>
  <joint name="LF_HAA" type="continuous">
    <origin rpy="0 0 0" xyz="0.0106 -0.0148 0.005"/>
    <parent link="FR_hip_servo"/>
    <child link="LF_HIP"/>
    <axis xyz="1.0 -0.0 0.0"/>
  </joint>
  <joint name="Rigid 11" type="fixed">
    <origin rpy="0 0 0" xyz="0.006 0.0 0.02"/>
    <parent link="LF_HIP"/>
    <child link="FR_hip_holder"/>
  </joint>
  <joint name="Rigid 12" type="fixed">
    <origin rpy="0 0 0" xyz="0.006 0.0 0.02"/>
    <parent link="RF_HIP"/>
    <child link="FL_hip_holder"/>
  </joint>
  <joint name="Rigid 13" type="fixed">
    <origin rpy="0 0 0" xyz="-0.006 0.0 0.02"/>
    <parent link="LH_HIP"/>
    <child link="BR_hip_holder"/>
  </joint>
  <joint name="Rigid 14" type="fixed">
    <origin rpy="0 0 0" xyz="-0.006 0.0 0.02"/>
    <parent link="RH_HIP"/>
    <child link="BL_hip_holder"/>
  </joint>
  <joint name="Rigid 15" type="fixed">
    <origin rpy="0 0 0" xyz="-0.008373 -0.0082 -0.006079"/>
    <parent link="BL_hip_holder"/>
    <child link="BL_femur_servo"/>
  </joint>
  <joint name="Rigid 16" type="fixed">
    <origin rpy="0 0 0" xyz="-0.008373 -0.0082 -0.026579"/>
    <parent link="BL_hip_holder"/>
    <child link="BL_tibia_servo"/>
  </joint>
  <joint name="Rigid 17" type="fixed">
    <origin rpy="0 0 0" xyz="-0.008373 0.0082 -0.006079"/>
    <parent link="BR_hip_holder"/>
    <child link="BR_femur_servo"/>
  </joint>
  <joint name="Rigid 18" type="fixed">
    <origin rpy="0 0 0" xyz="-0.008373 0.0082 -0.026579"/>
    <parent link="BR_hip_holder"/>
    <child link="BR_tibia_servo"/>
  </joint>
  <joint name="Rigid 19" type="fixed">
    <origin rpy="0 0 0" xyz="0.008373 -0.0082 -0.006079"/>
    <parent link="FL_hip_holder"/>
    <child link="FL_femur_servo"/>
  </joint>
  <joint name="Rigid 20" type="fixed">
    <origin rpy="0 0 0" xyz="0.008373 -0.0082 -0.026579"/>
    <parent link="FL_hip_holder"/>
    <child link="FL_tibia_servo"/>
  </joint>
  <joint name="Rigid 21" type="fixed">
    <origin rpy="0 0 0" xyz="0.008373 0.0082 -0.006079"/>
    <parent link="FR_hip_holder"/>
    <child link="FR_femur_servo"/>
  </joint>
  <joint name="Rigid 22" type="fixed">
    <origin rpy="0 0 0" xyz="0.008373 0.0082 -0.026579"/>
    <parent link="FR_hip_holder"/>
    <child link="FR_tibia_servo"/>
  </joint>
  <joint name="imu_joint" type="fixed">
    <origin rpy="0 0 0" xyz="0.003497 0.0 0.0395"/>
    <parent link="base"/>
    <child link="imu_link"/>
  </joint>
  <joint name="LF_HFE" type="continuous">
    <origin rpy="0 0 0" xyz="0.0148 0.0106 0.005"/>
    <parent link="FR_femur_servo"/>
    <child link="LF_THIGH"/>
    <axis xyz="-0.0 1.0 -0.0"/>
  </joint>
  <joint name="RF_HFE" type="continuous">
    <origin rpy="0 0 0" xyz="0.0148 -0.0106 0.005"/>
    <parent link="FL_femur_servo"/>
    <child link="RF_THIGH"/>
    <axis xyz="-0.0 1.0 0.0"/>
  </joint>
  <joint name="RH_HFE" type="continuous">
    <origin rpy="0 0 0" xyz="-0.0348 -0.0106 0.005"/>
    <parent link="BL_femur_servo"/>
    <child link="RH_THIGH"/>
    <axis xyz="-0.0 1.0 0.0"/>
  </joint>
  <joint name="LH_HFE" type="continuous">
    <origin rpy="0 0 0" xyz="-0.0348 0.0106 0.005"/>
    <parent link="BR_femur_servo"/>
    <child link="LH_THIGH"/>
    <axis xyz="-0.0 1.0 -0.0"/>
  </joint>
  <joint name="LF_KFE" type="continuous">
    <origin rpy="0 0 0" xyz="0.0 0.013 -0.090579"/>
    <parent link="LF_THIGH"/>
    <child link="LF_SHANK"/>
    <axis xyz="-0.0 1.0 -0.0"/>
  </joint>
  <joint name="RF_KFE" type="continuous">
    <origin rpy="0 0 0" xyz="0.0 -0.013 -0.090579"/>
    <parent link="RF_THIGH"/>
    <child link="RF_SHANK"/>
    <axis xyz="-0.0 1.0 0.0"/>
  </joint>
  <joint name="LH_KFE" type="continuous">
    <origin rpy="0 0 0" xyz="0.0 0.013 -0.090579"/>
    <parent link="LH_THIGH"/>
    <child link="LH_SHANK"/>
    <axis xyz="-0.0 1.0 -0.0"/>
  </joint>
  <joint name="RH_KFE" type="continuous">
    <origin rpy="0 0 0" xyz="0.0 -0.013 -0.090579"/>
    <parent link="RH_THIGH"/>
    <child link="RH_SHANK"/>
    <axis xyz="-0.0 1.0 0.0"/>
  </joint>
  <joint name="RH_shank_fixed_RH_FOOT" type="continuous">
    <origin rpy="0 0 0" xyz="0.089947 0.0066 -0.001191"/>
    <parent link="RH_SHANK"/>
    <child link="RH_FOOT"/>
    <axis xyz="0.646191 -0.0 -0.763176"/>
  </joint>
  <joint name="LH_shank_fixed_LH_FOOT" type="continuous">
    <origin rpy="0 0 0" xyz="0.089947 -0.0066 -0.001191"/>
    <parent link="LH_SHANK"/>
    <child link="LH_FOOT"/>
    <axis xyz="-0.646191 0.0 0.763176"/>
  </joint>
  <joint name="LF_shank_fixed_LF_FOOT" type="continuous">
    <origin rpy="0 0 0" xyz="0.089946 -0.0066 -0.001191"/>
    <parent link="LF_SHANK"/>
    <child link="LF_FOOT"/>
    <axis xyz="-0.646191 -0.0 0.763176"/>
  </joint>
  <joint name="RF_shank_fixed_RF_FOOT" type="continuous">
    <origin rpy="0 0 0" xyz="0.089906 0.006586 -0.001225"/>
    <parent link="RF_SHANK"/>
    <child link="RF_FOOT"/>
    <axis xyz="0.646191 -0.0 -0.763176"/>
  </joint>
  <joint name="Rigid 36" type="fixed">
    <origin rpy="0 0 0" xyz="-0.00664 -0.018475 0.0624"/>
    <parent link="base"/>
    <child link="plaque_left"/>
  </joint>
  <joint name="Rigid 37" type="fixed">
    <origin rpy="0 0 0" xyz="-0.00664 0.018475 0.0624"/>
    <parent link="base"/>
    <child link="plaque_right"/>
  </joint>
  <joint name="Rigid 38" type="fixed">
    <origin rpy="0 0 0" xyz="-0.107742 -0.015621 0.0385"/>
    <parent link="base"/>
    <child link="rear"/>
  </joint>
  <joint name="Rigid 39" type="fixed">
    <origin rpy="0 0 0" xyz="0.123238 -0.015621 0.0385"/>
    <parent link="base"/>
    <child link="face"/>
  </joint>
  <joint name="Rigid 40" type="fixed">
    <origin rpy="0 0 0" xyz="0.0 -0.02834 0.066571"/>
    <parent link="rear"/>
    <child link="internal_infra"/>
  </joint>
  <joint name="Rigid 41" type="fixed">
    <origin rpy="0 0 0" xyz="-0.0025 0.077221 0.066915"/>
    <parent link="rear"/>
    <child link="top"/>
  </joint>
</robot>
